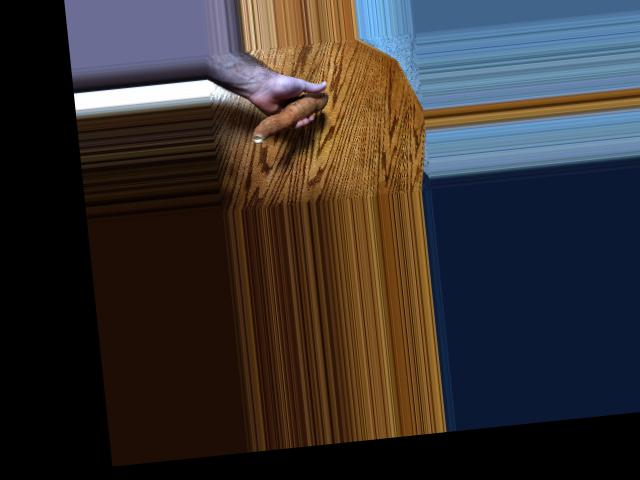sweet_potato: (247, 93, 335, 142)
